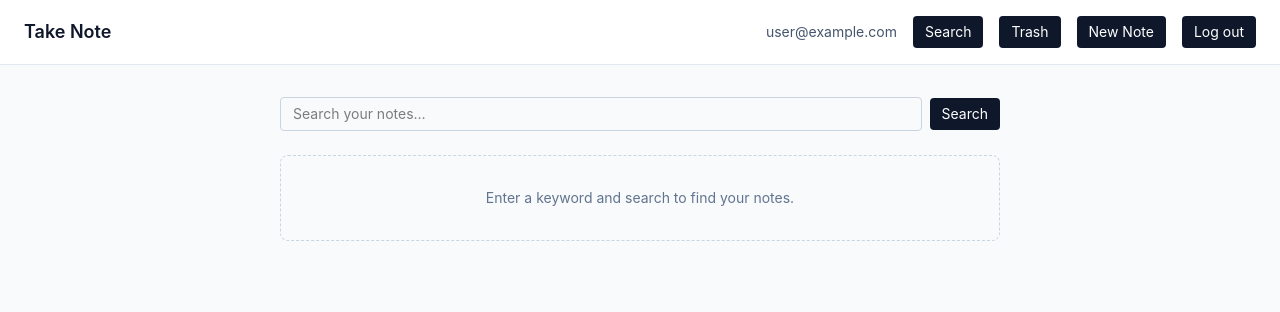
Test: SearchPage › Submitting a search keyword displays matching notes
Step 1. Type "Note 5" into the field labelled "Search your notes" → x=601, y=114, box 280,97 -> 922,131
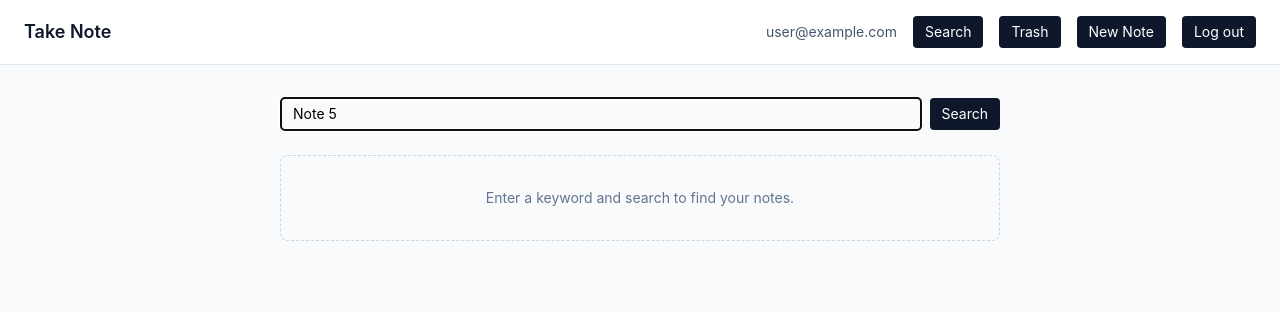
Step 2. Click the button "Search" → x=965, y=114, box 930,98 -> 1000,130
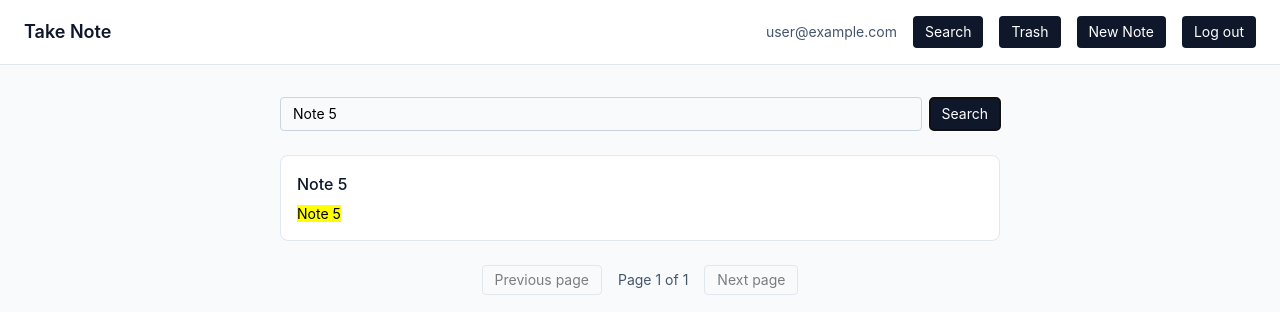
Expected: the heading "Note 5" is shown, 297,174 -> 347,194
